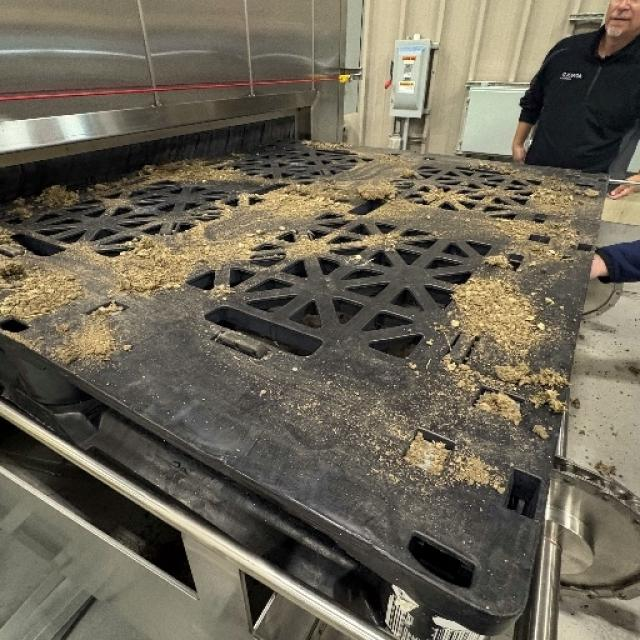igps: (0, 127, 616, 640)
